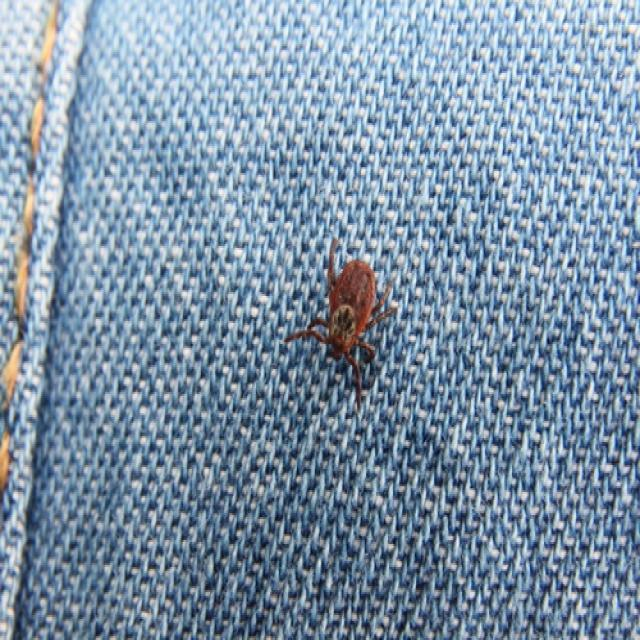Dermacentor Reticulatus-F: (285, 238, 398, 404)
